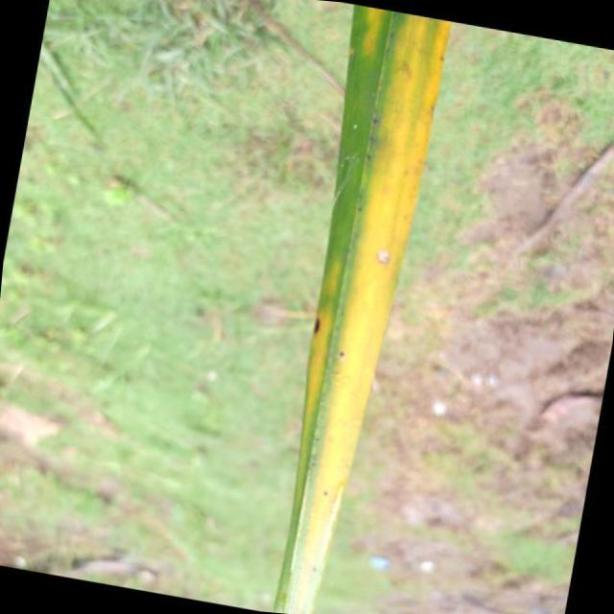Megnesium: (268, 3, 452, 614)
